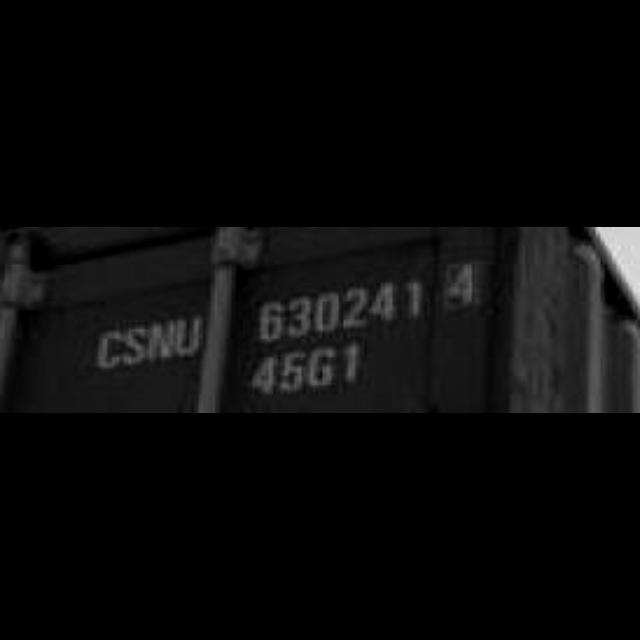0: (316, 287, 338, 337)
1: (404, 276, 428, 326), (342, 338, 364, 390)
2: (344, 282, 370, 338)
3: (288, 295, 314, 341)
4: (447, 260, 481, 312), (372, 278, 401, 330), (251, 354, 279, 401)
5: (280, 350, 306, 396)
6: (256, 299, 286, 346)
c: (94, 328, 122, 369)
g: (305, 344, 337, 396)
n: (148, 318, 174, 364)
s: (121, 324, 149, 368)
u: (173, 312, 204, 360)
